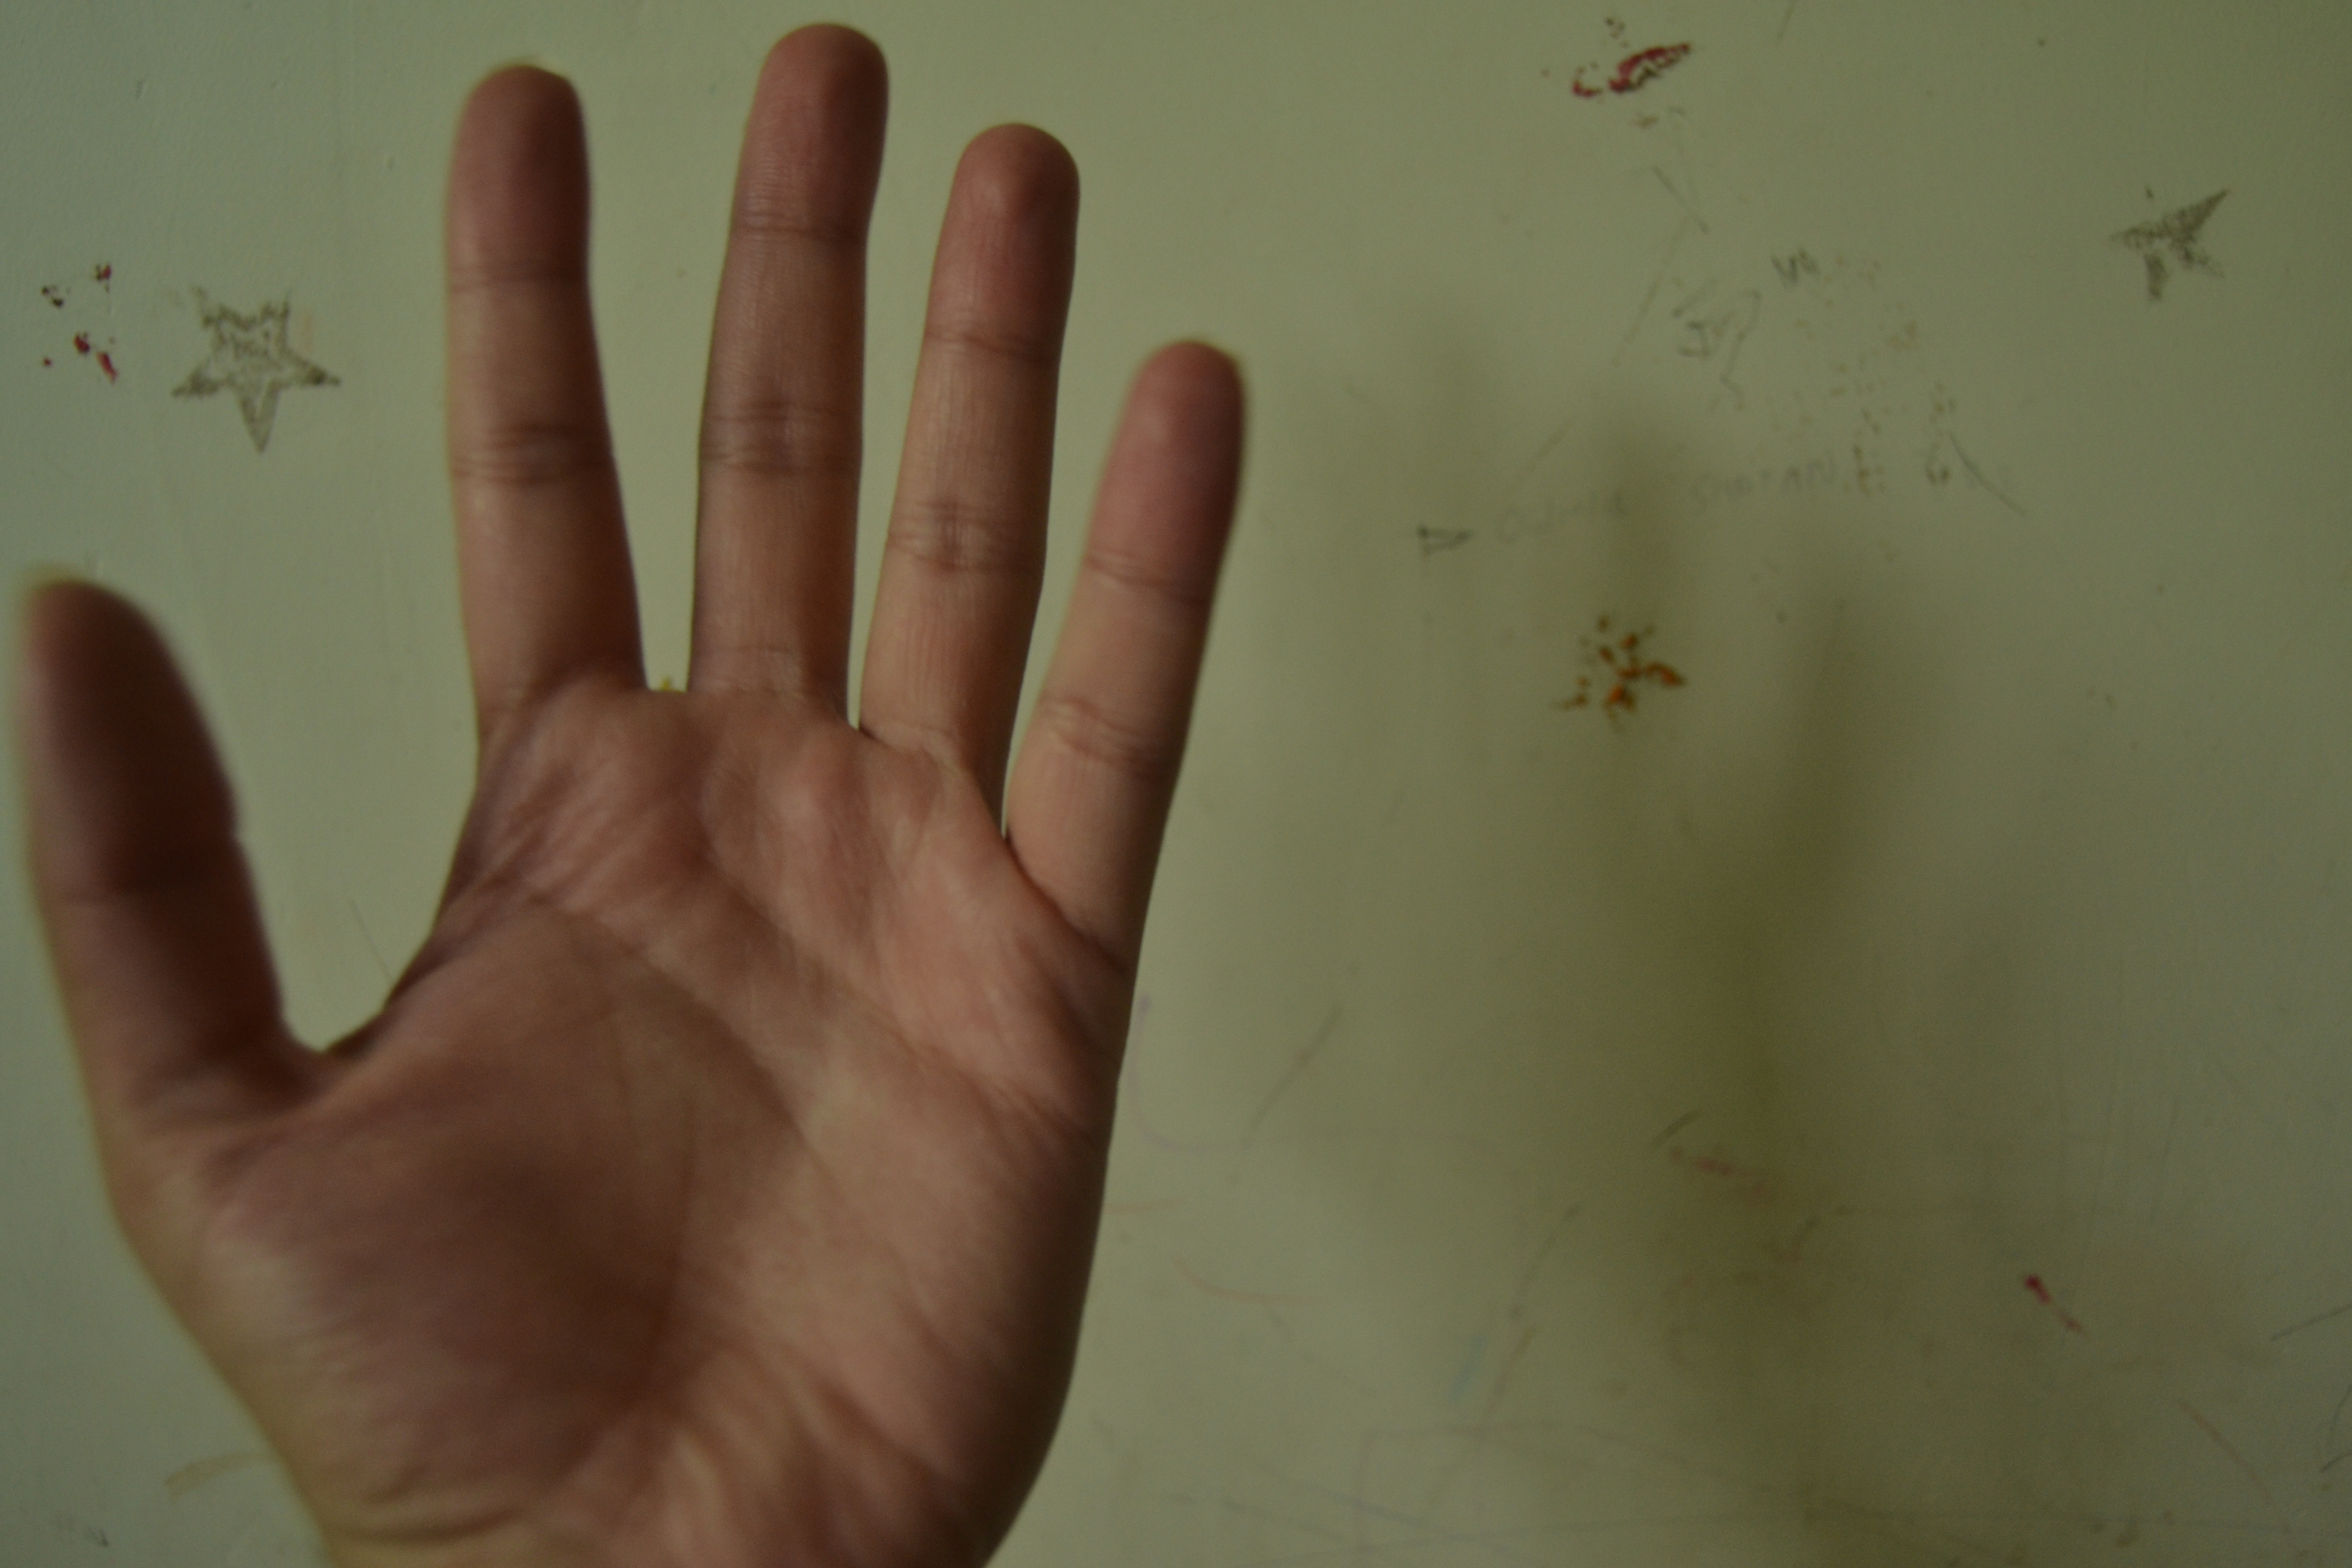move: (12, 24, 1358, 1535)
